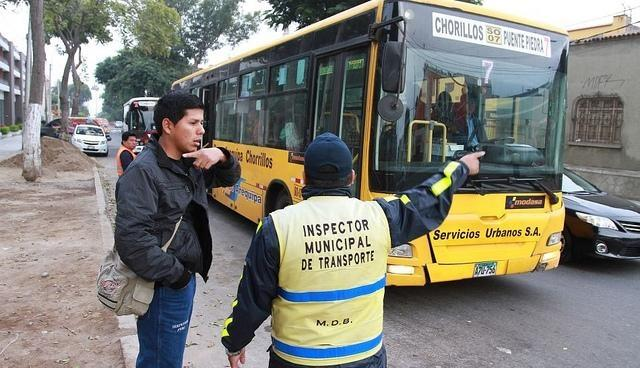bus: (172, 1, 570, 286), (122, 97, 160, 145), (146, 135, 159, 146)
car: (558, 166, 640, 263), (71, 124, 109, 156), (114, 120, 123, 128)
